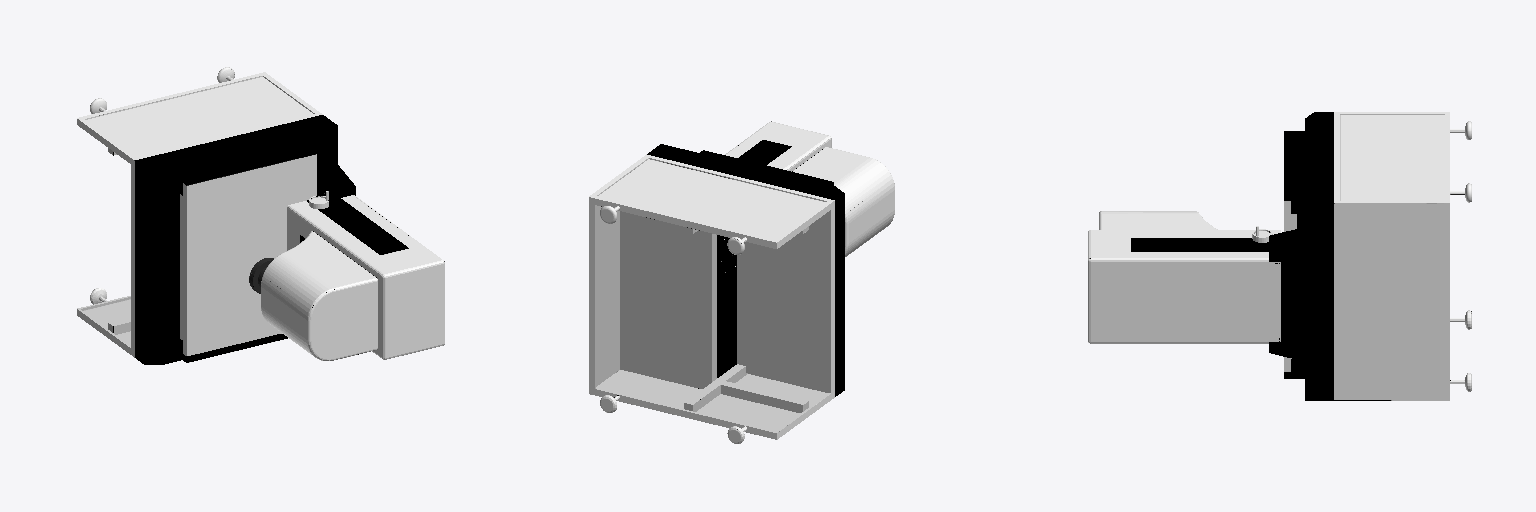
The picture shows the model from 3 angles: view 1: azimuth 30°, elevation 25°; view 2: azimuth 150°, elevation 25°; view 3: azimuth 270°, elevation 25°; orthographic projection.
Parts seen in each view (by area): view 1: Solid1; view 2: Solid1; view 3: Solid1.
Boxes of the visible parts, <box> form: Solid1: <box>77,67,444,364</box>; Solid1: <box>589,121,894,443</box>; Solid1: <box>1088,112,1471,400</box>.
Size of the model in its own units: 1.5 by 1.57 by 2.65.
Materials: 1 (1 with a texture image).